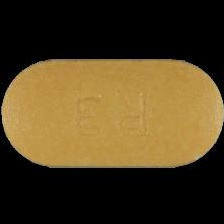53808-0786: (0, 0, 224, 224)
